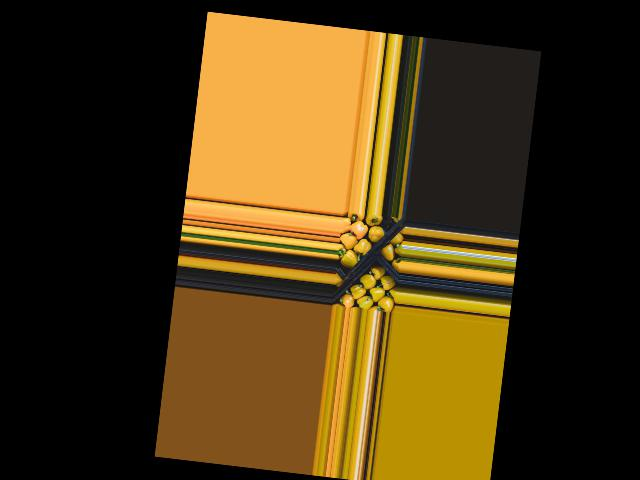bell_pepper: (379, 292, 397, 312)
